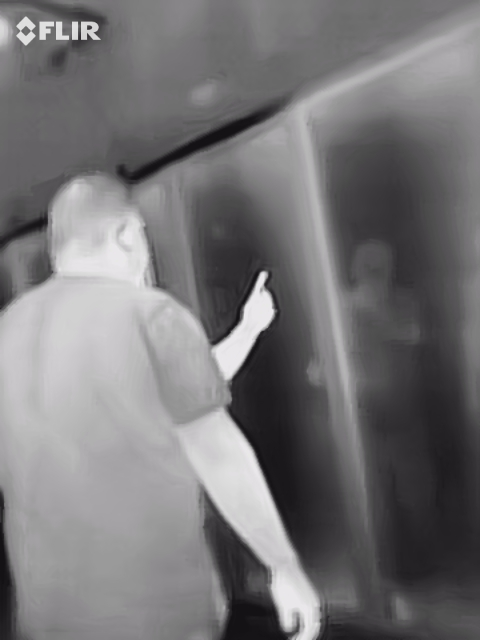head: (46, 173, 152, 280)
